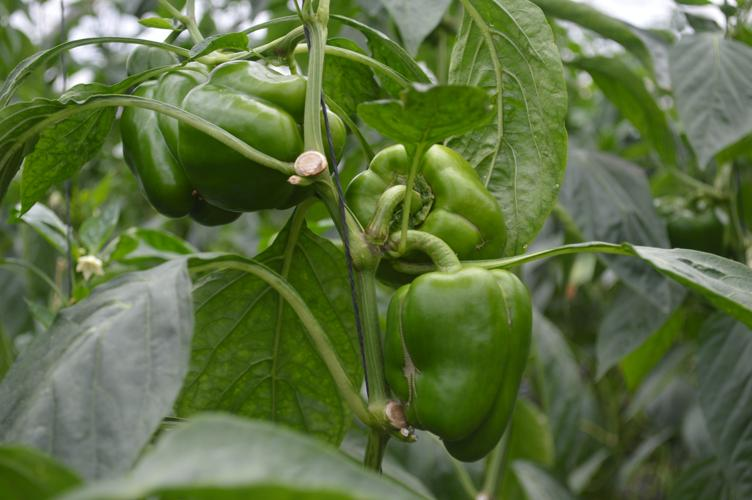BellPepper: (379, 267, 532, 465), (172, 63, 342, 211), (342, 141, 505, 262), (122, 63, 231, 228)
